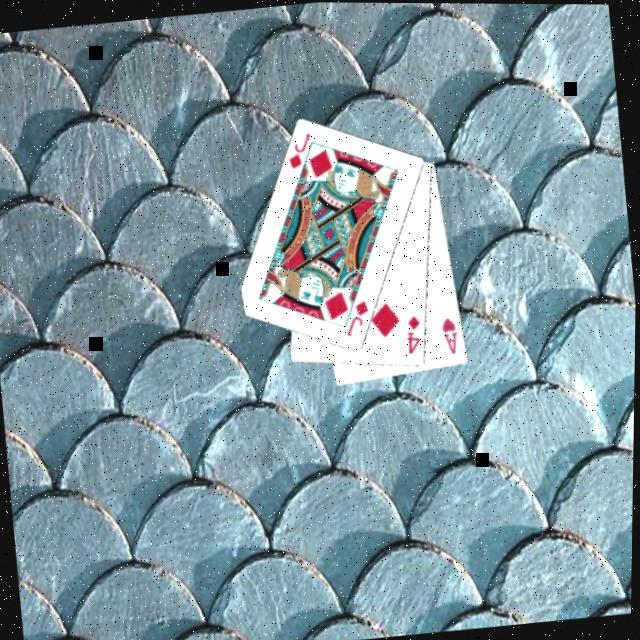4D: (402, 312, 428, 358)
AH: (440, 313, 464, 357)
JD: (341, 296, 376, 340), (284, 130, 318, 173)
